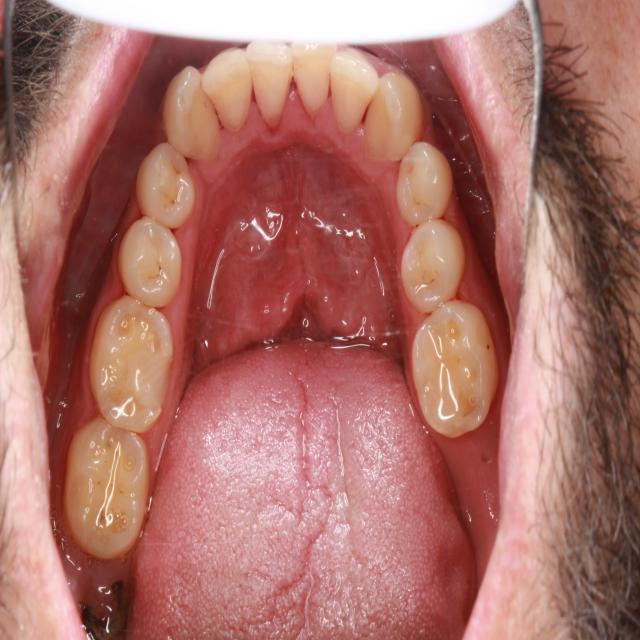tooth: (82, 285, 184, 448), (410, 288, 506, 455), (59, 411, 156, 568), (395, 204, 479, 328), (113, 205, 193, 319), (158, 55, 229, 167), (390, 118, 460, 230), (360, 60, 427, 173), (132, 136, 207, 235), (243, 28, 299, 150), (198, 35, 263, 140), (328, 38, 389, 140), (288, 22, 341, 125)
